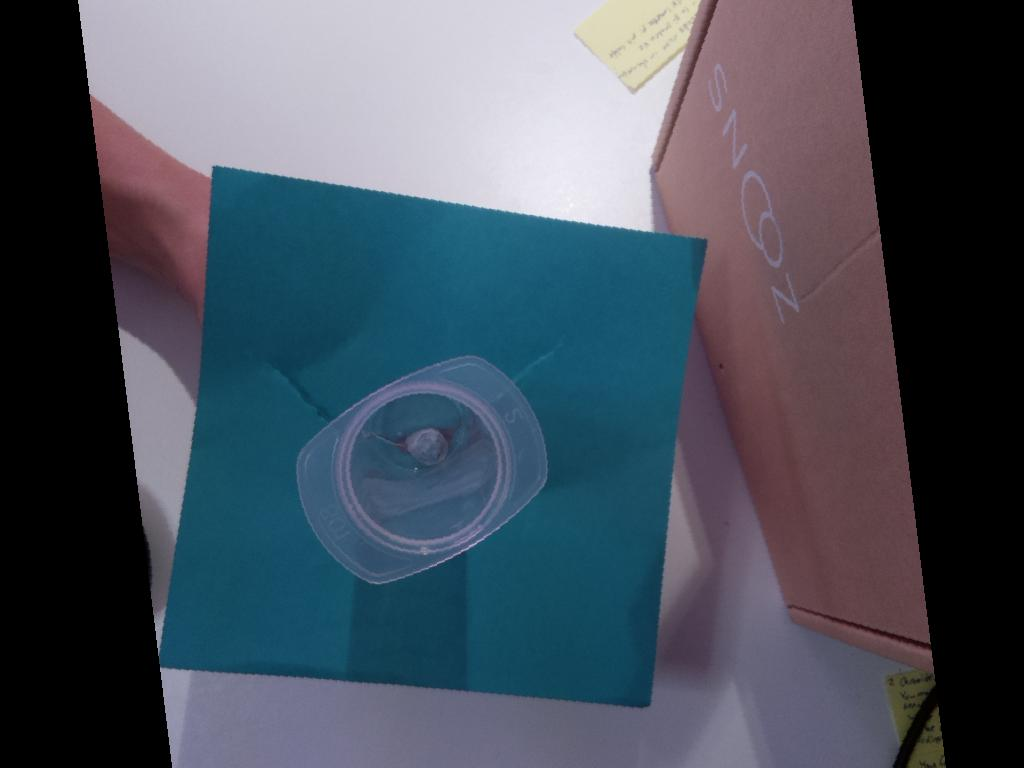clean: (296, 353, 549, 585)
